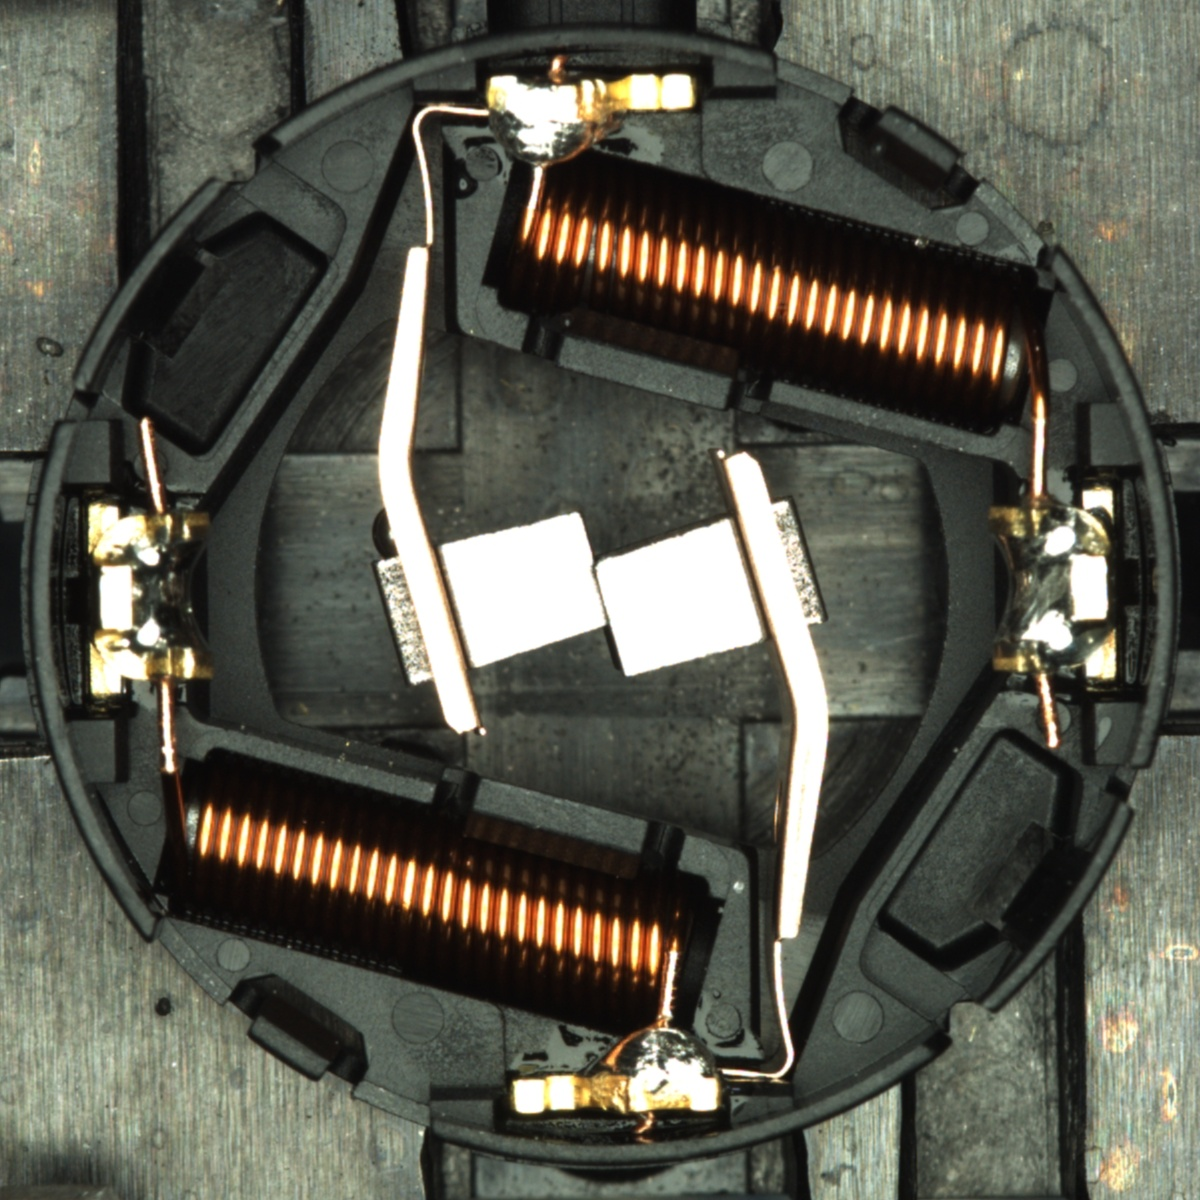1: (713, 930, 943, 1154), (255, 32, 484, 256)
2: (713, 32, 943, 256), (255, 930, 484, 1154)
3: (25, 256, 255, 481), (943, 705, 1171, 930)
4: (255, 256, 484, 481), (713, 705, 943, 930)
5: (484, 144, 713, 368), (484, 818, 713, 1042)
6: (713, 256, 943, 481), (255, 705, 484, 930)
7: (943, 256, 1171, 481), (25, 705, 255, 930)
cacbon: (397, 500, 800, 686)
chau_dien: (982, 485, 1123, 686), (80, 497, 219, 697)
hat_chi: (370, 507, 400, 562)
tay_choi: (484, 73, 701, 173), (509, 1019, 722, 1118)
thanh_de: (954, 785, 1141, 1029), (59, 165, 245, 405)
